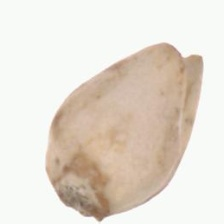L1: (51, 174, 108, 221), (161, 41, 205, 98)
L2: (44, 42, 204, 221)
